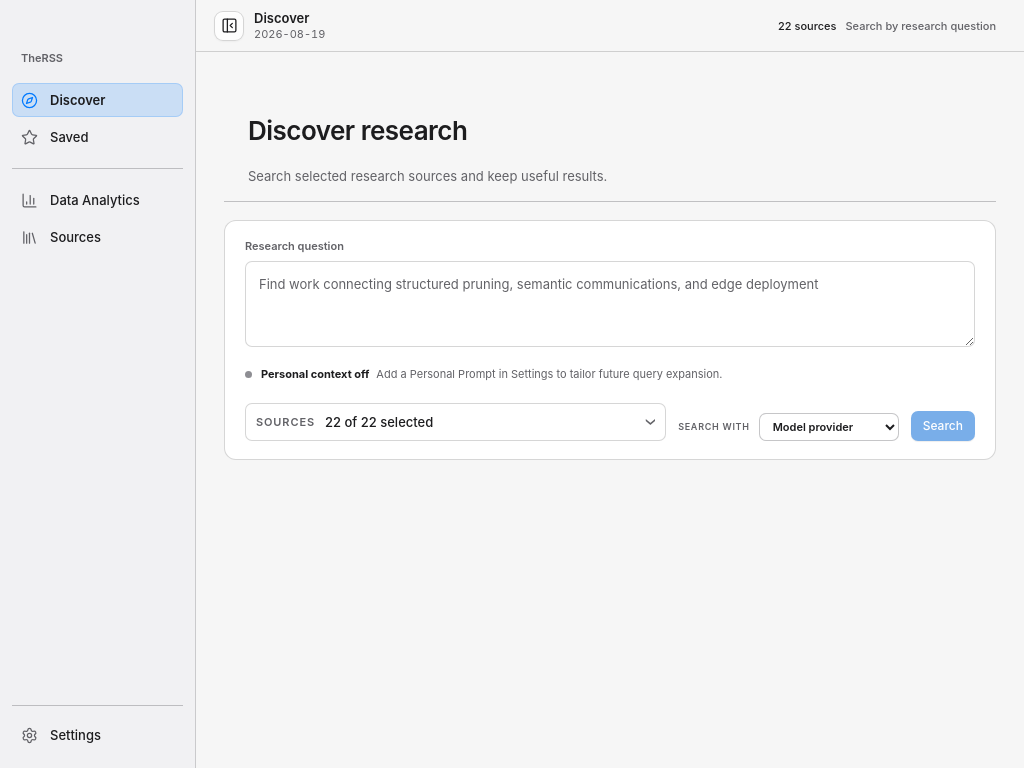
Test: App › searches every source and renders truthful outcomes and actual item identities
The width and height of the screenshot is (1024, 768).
Step 1. Type "semantic communication pruning for edge deployment" into the text box labelled "Research question" → point(610, 304), box x1=245 y1=260 x2=975 y2=347
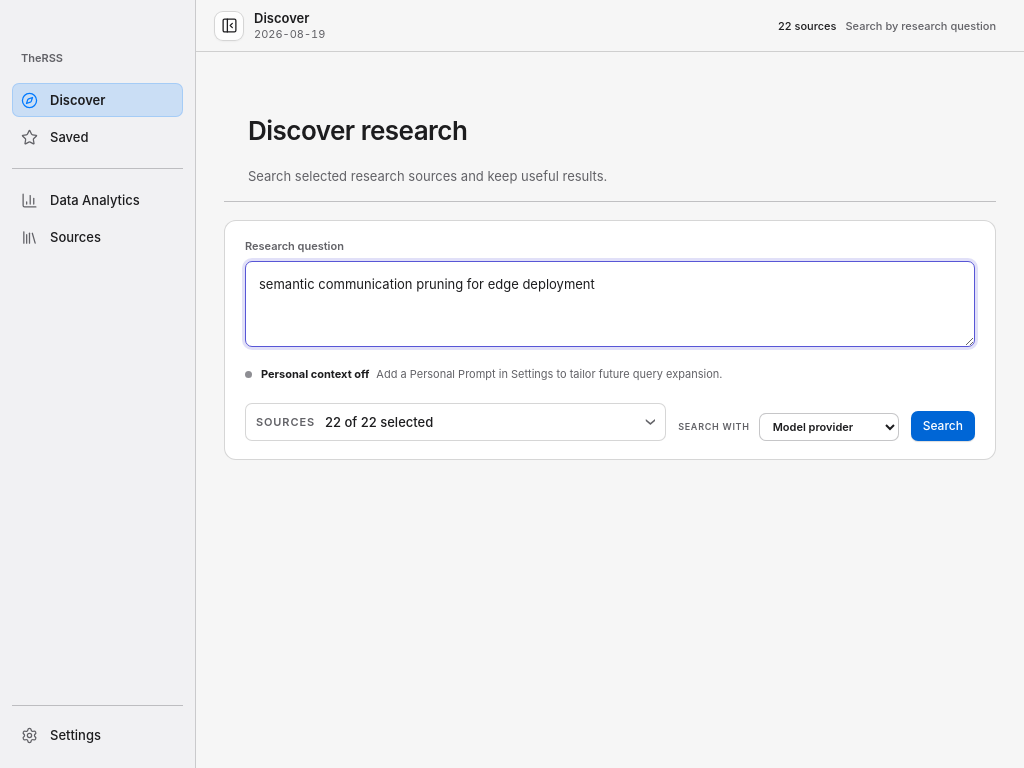
Step 2. Select "Codex CLI" in the dropdown labelled "Search with" → point(829, 427), box x1=759 y1=413 x2=899 y2=441
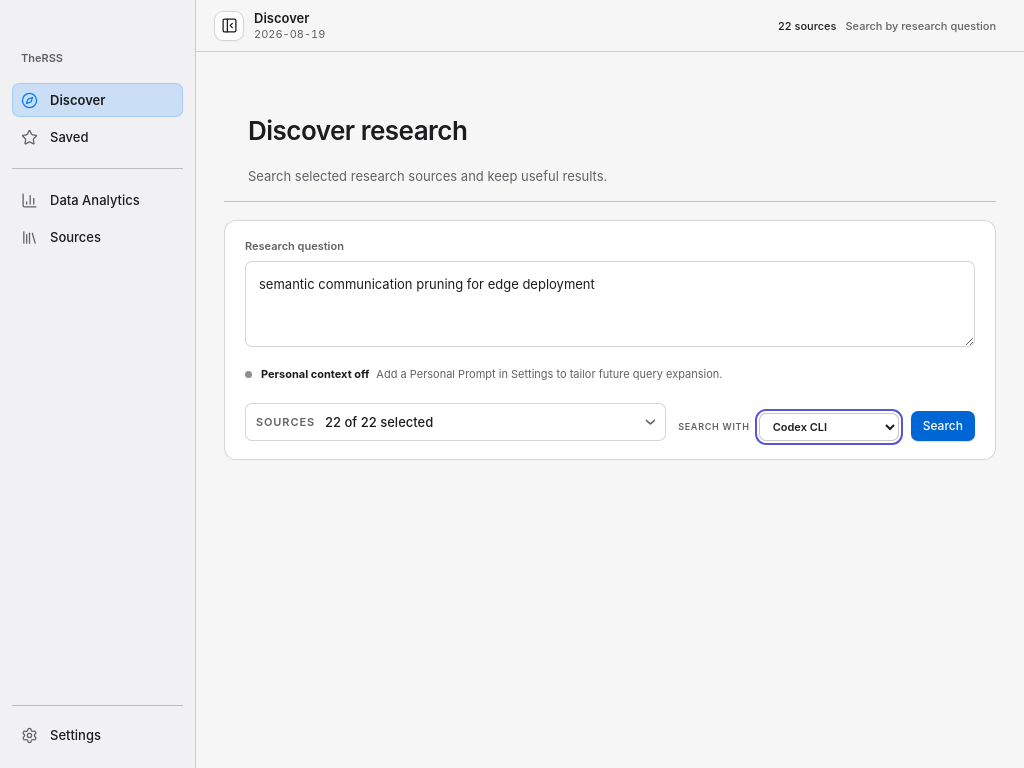
Step 3. Click the button "Search" → point(943, 426), box x1=911 y1=411 x2=975 y2=441
(page scrolled)
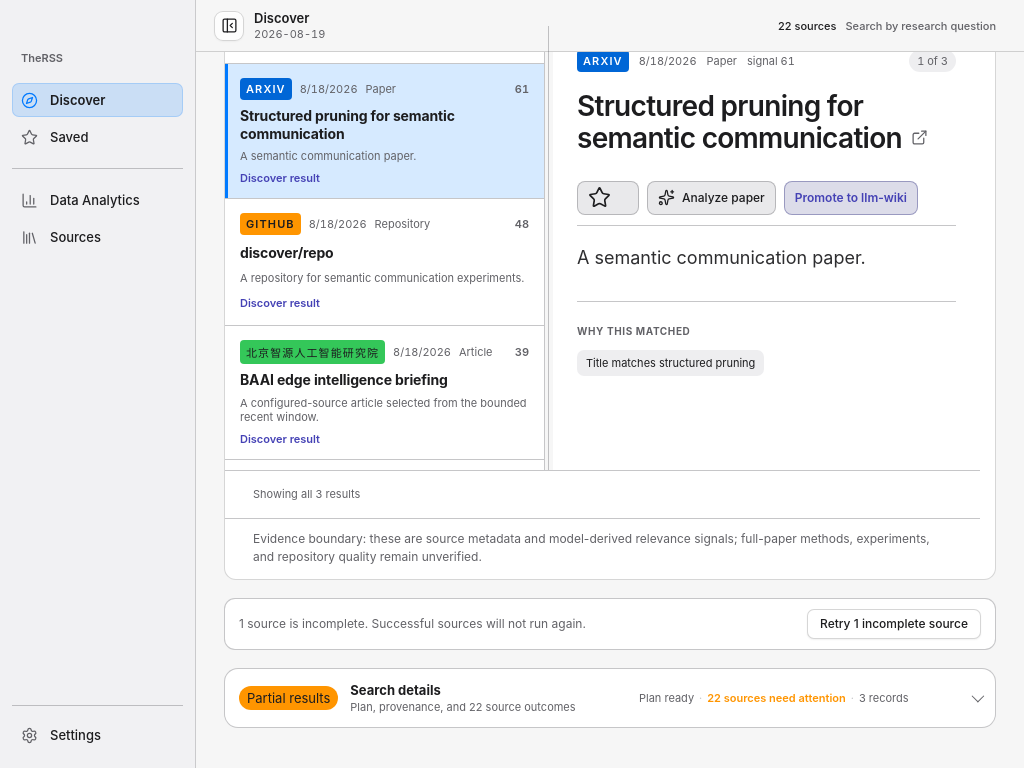
Result: the text "Partial results" is shown at x1=239 y1=686 x2=338 y2=710
Step 4. Click the button "Search details" → point(574, 698), box x1=239 y1=682 x2=909 y2=714
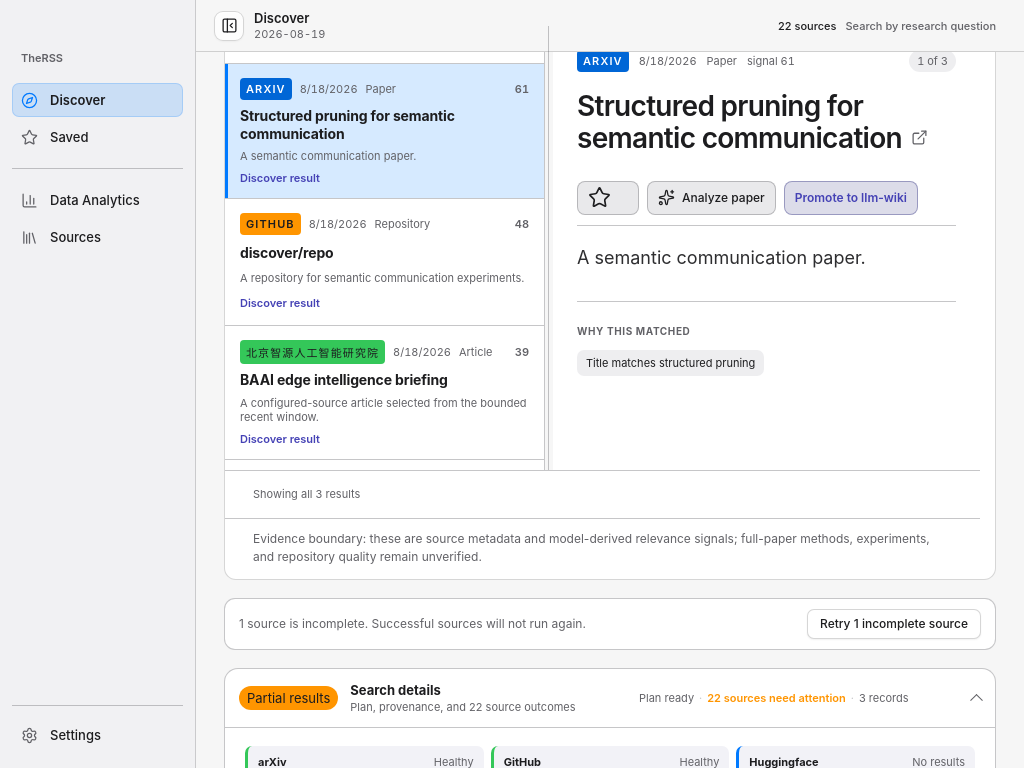
Step 5. Click the button with aria-label "Select result: BAAI edge intelligence briefing" → point(384, 393), box x1=225 y1=326 x2=544 y2=459
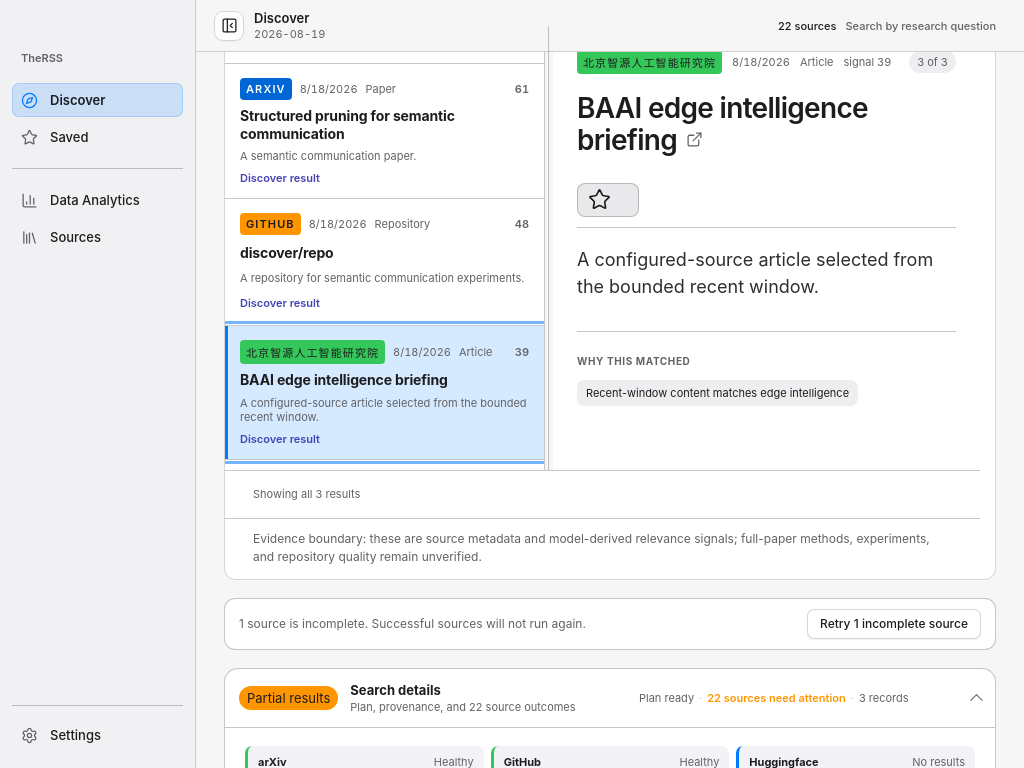
Result: the 1st text "北京智源人工智能研究院" is shown at x1=577 y1=50 x2=722 y2=74
Result: the 1st text "Article" is shown at x1=800 y1=55 x2=834 y2=69
